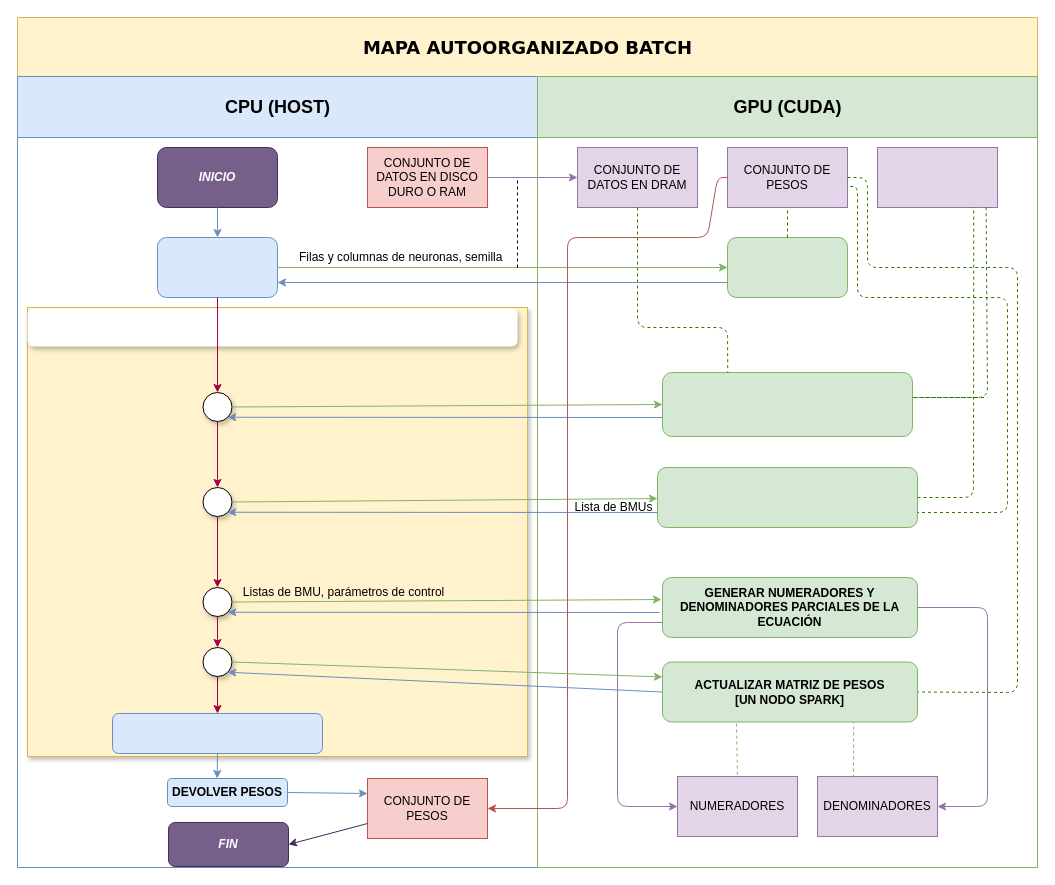
Image size: 1055x885. Some labels were removed from this diagram. The centre of each missing label's shape, as x and y in pixels:
"ACTUALIZAR PARÁMETROS DE CONTROL" belongs at point 217,733.
"CALCULAR DISTANCIAS EUCLÍDEAS DE TODAS LAS MUESTRAS" belongs at point 787,404.
"CONJUNTO DE DISTANCIAS" belongs at point 937,177.
"ENCONTRAR LA BMU DE CADA MUESTRA" belongs at point 787,497.
"INICIALIZAR [UN NODO SPARK]" belongs at point 217,267.
"INICIALIZAR PESOS [UN NODO SPARK]" belongs at point 787,267.
"Mientras que la iteración actual sea menor que el número de iteraciones (épocas)" belongs at point 273,328.
